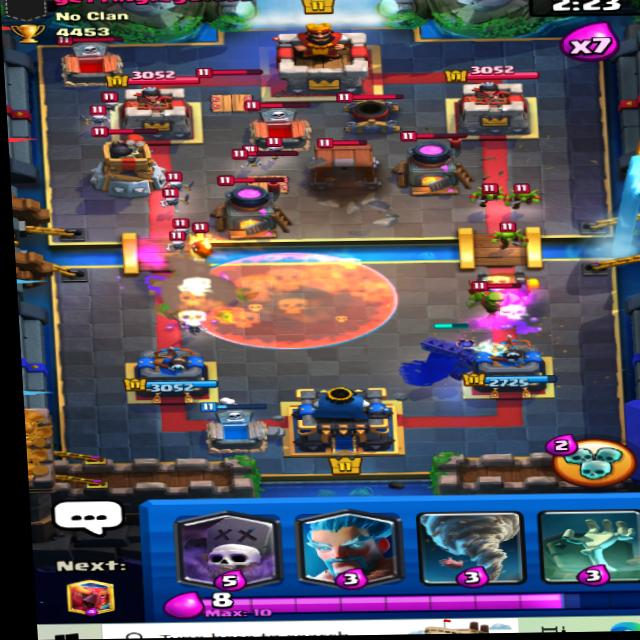bomb-tower: (86, 123, 166, 199)
brawler: (461, 278, 528, 318)
furnace: (210, 171, 297, 238), (393, 130, 478, 194)
goblin: (492, 218, 539, 247), (511, 176, 553, 208), (473, 176, 512, 207)
goblin-cage: (309, 135, 382, 187)
mortar: (329, 87, 407, 136)
skeleton: (160, 215, 203, 239), (154, 234, 198, 257), (241, 143, 276, 171), (157, 183, 193, 206), (159, 171, 193, 195), (83, 101, 114, 124), (98, 88, 119, 111)
tesla-closed: (190, 60, 265, 115), (233, 147, 302, 195)
tombstone: (49, 34, 125, 86), (243, 100, 313, 150)
